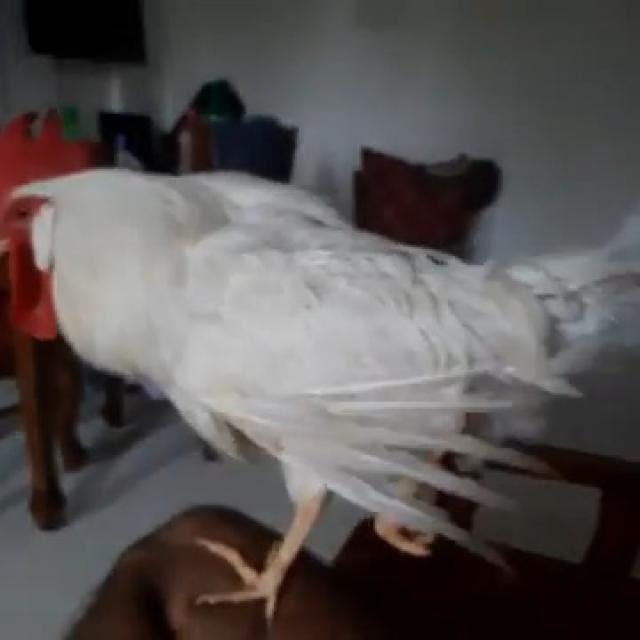leg stretching: (0, 124, 628, 588)
